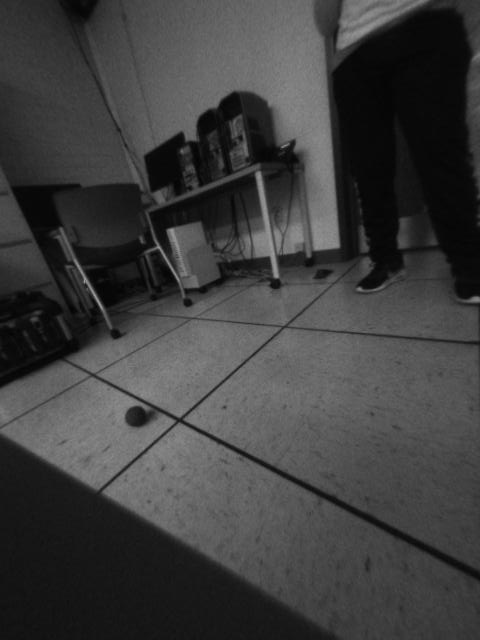dogtoy: (122, 400, 154, 430)
